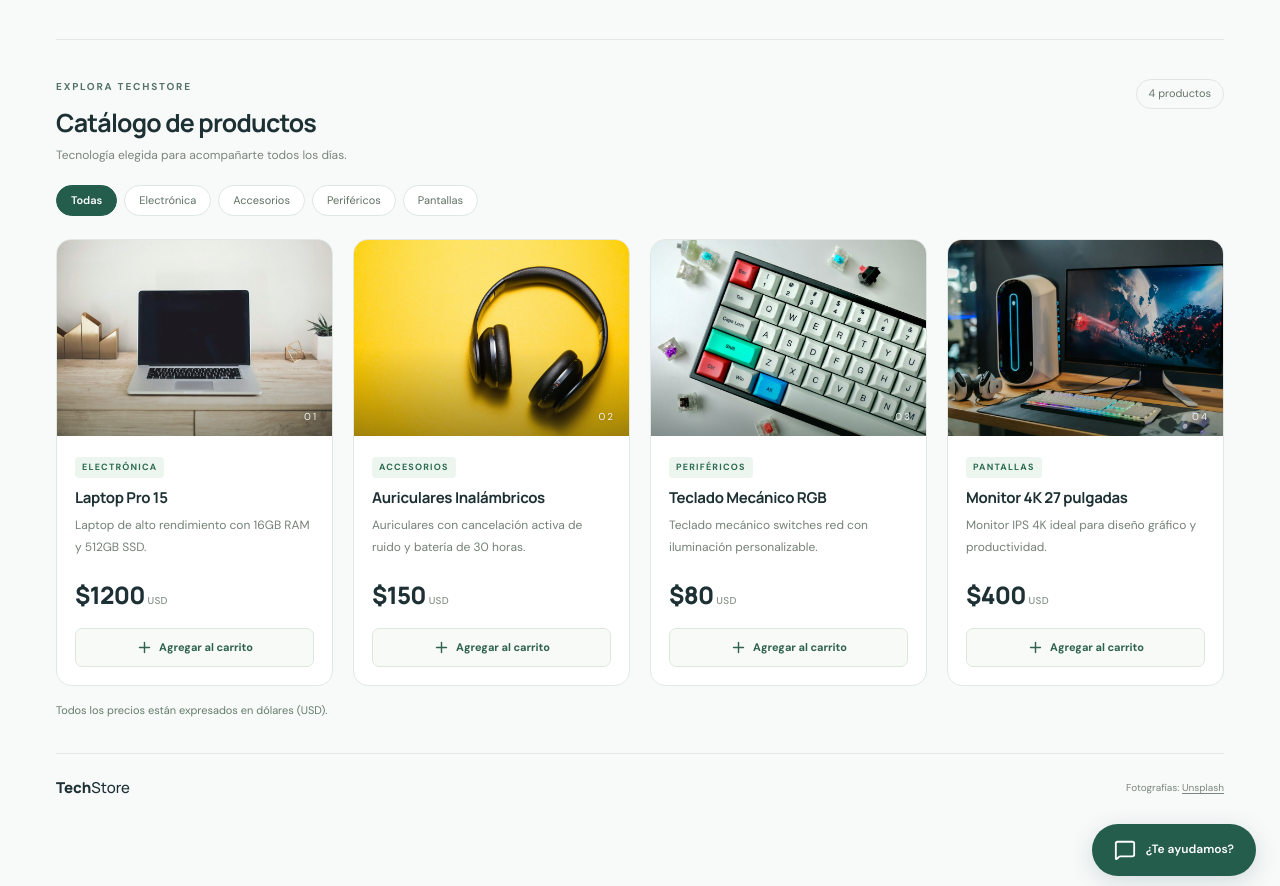
Test: Tienda y agente conversacional — sesión 29 › incrementa el carrito al agregar productos, incluso repetidos
(page scrolled)
Click the button with aria-label "Agregar al carrito: Laptop Pro 15".
click(194, 648)  # box x1=75 y1=628 x2=314 y2=667
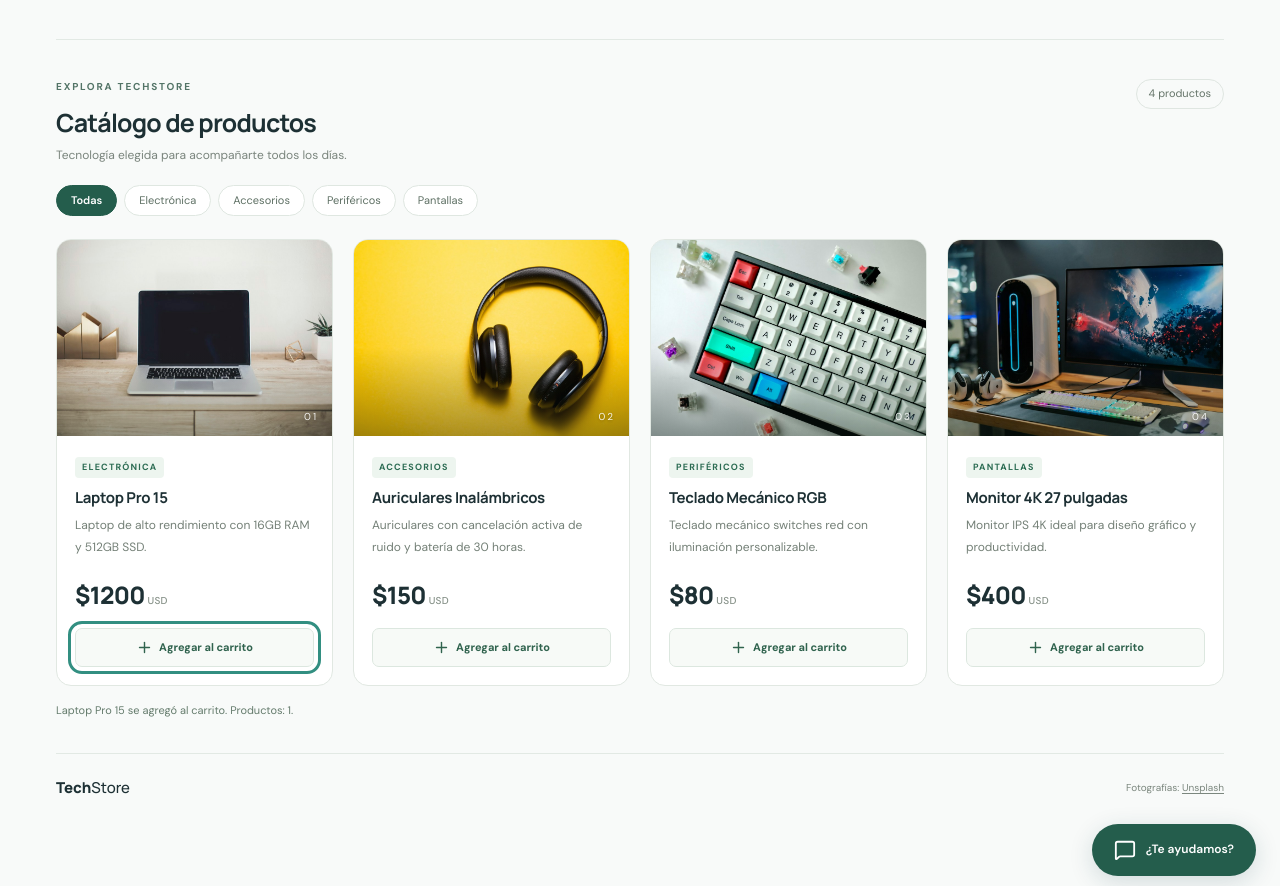
Click the button with aria-label "Agregar al carrito: Laptop Pro 15".
click(194, 648)  # box x1=75 y1=628 x2=314 y2=667
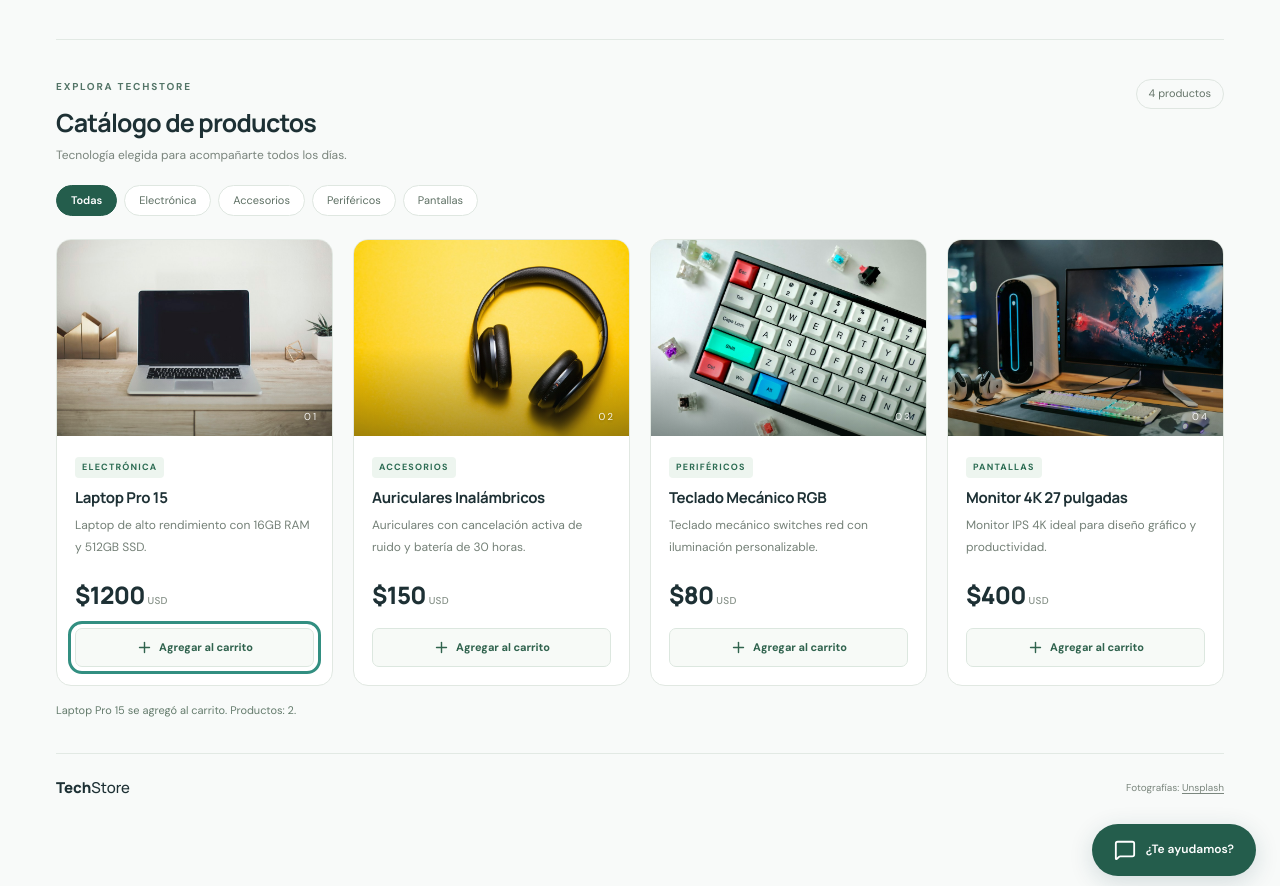
Click the button with aria-label "Agregar al carrito: Teclado Mecánico RGB".
click(788, 648)  # box x1=669 y1=628 x2=908 y2=667
(page scrolled)
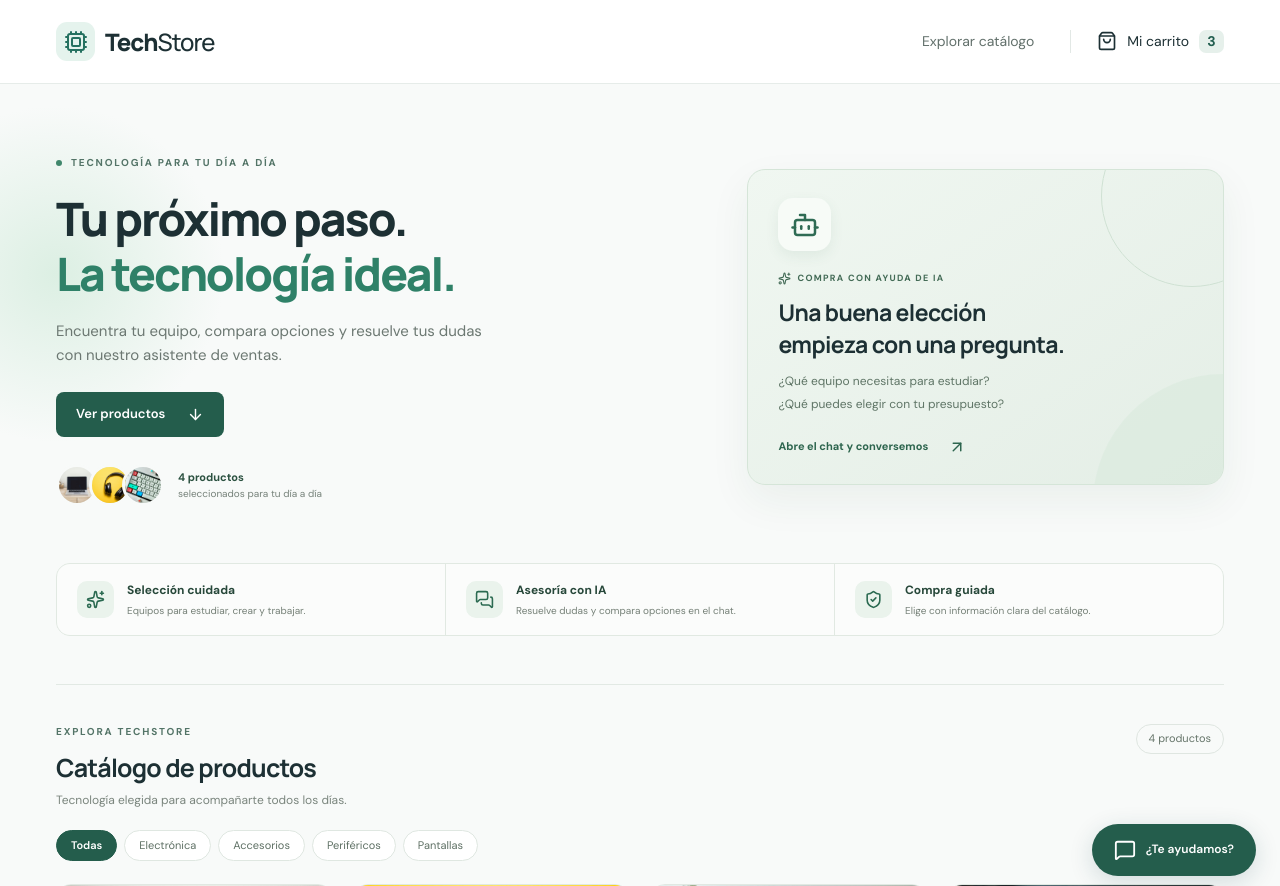
expect the message named "Carrito: 3 productos" is shown: met, box x1=1070 y1=30 x2=1224 y2=53
